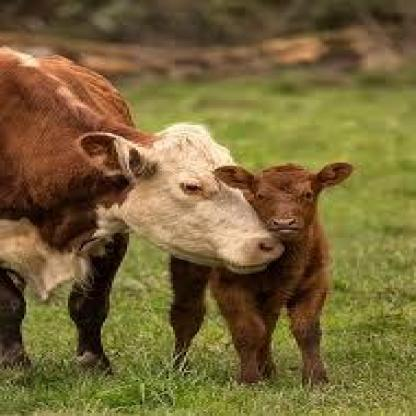cow: (0, 48, 282, 378), (167, 163, 356, 385)
